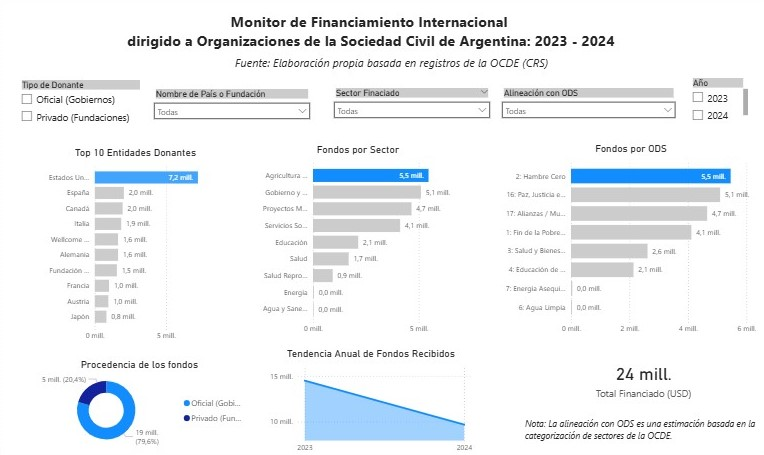

The dashboard page shown, as its layout file describes it:
{"tool":"powerbi","page":{"name":"Página 1","canvas":[1280,763],"ordinal":0},"visuals":[{"type":"barChart","title":"Fondos por ODS","fields":{"Y":["Maestro_Fondos_ODS_Final.monto_usd"],"Category":["Maestro_Fondos_ODS_Final.ods_estimado (grupos)"]},"box":[829.7,235.9,450,329.7],"z":0},{"type":"barChart","title":"Fondos por Sector","fields":{"Category":["Maestro_Fondos_ODS_Final.nombre_sector"],"Y":["Maestro_Fondos_ODS_Final.monto_usd"]},"box":[425,237.5,350,328.1],"z":1000},{"type":"slicer","fields":{"Values":["Maestro_Fondos_ODS_Final.nombre_donante"]},"box":[250,142.9,280,101.4],"z":2000},{"type":"slicer","fields":{"Values":["Maestro_Fondos_ODS_Final.nombre_sector"]},"box":[550,142.2,279.7,75],"z":3000},{"type":"barChart","title":"Top 10 Entidades Donantes","fields":{"Category":["Maestro_Fondos_ODS_Final.nombre_donante"],"Y":["Maestro_Fondos_ODS_Final.monto_usd"]},"box":[68.8,243.8,321.9,334.4],"z":4000},{"type":"slicer","fields":{"Values":["Maestro_Fondos_ODS_Final.ods_estimado"]},"box":[829.7,142.2,309.4,70.3],"z":5000},{"type":"slicer","fields":{"Values":["Maestro_Fondos_ODS_Final.origen_fondos"]},"box":[26.6,128.1,223.4,101.6],"z":6000},{"type":"card","fields":{"Values":["Maestro_Fondos_ODS_Final.monto_usd"]},"box":[981.7,591.7,188.3,80],"z":7000},{"type":"textbox","box":[28.3,13.3,1186.7,91.7],"z":9000},{"type":"textbox","box":[390,86.7,601.7,41.7],"z":10000},{"type":"slicer","fields":{"Values":["Maestro_Fondos_ODS_Final.time_period"]},"box":[1145.7,124.3,110,84.3],"z":11000},{"type":"textbox","box":[873.3,690,406.7,73.3],"z":12000},{"type":"donutChart","title":"Procedencia de los fondos","fields":{"Category":["Maestro_Fondos_ODS_Final.origen_fondos"],"Y":["Maestro_Fondos_ODS_Final.monto_usd"]},"box":[46.7,596.7,378.3,155],"z":13000},{"type":"areaChart","title":"Tendencia Anual de Fondos Recibidos","fields":{"Category":["Maestro_Fondos_ODS_Final.time_period"],"Y":["Maestro_Fondos_ODS_Final.monto_usd"]},"box":[448.3,578.3,346.7,185],"z":13001}]}

Visuals, with their boxes in screenshot pixels (x1, y1, x2, y2), scaled from the page's 1280x763 canvas onto the 764x455 screenshot:
"Fondos por ODS" barChart: [495, 141, 763, 337]
"Fondos por Sector" barChart: [254, 142, 463, 337]
slicer - Maestro_Fondos_ODS_Final.nombre_donante: [149, 85, 316, 146]
slicer - Maestro_Fondos_ODS_Final.nombre_sector: [328, 85, 495, 130]
"Top 10 Entidades Donantes" barChart: [41, 145, 233, 345]
slicer - Maestro_Fondos_ODS_Final.ods_estimado: [495, 85, 680, 127]
slicer - Maestro_Fondos_ODS_Final.origen_fondos: [16, 76, 149, 137]
card - Maestro_Fondos_ODS_Final.monto_usd: [586, 353, 698, 401]
textbox: [17, 8, 725, 63]
textbox: [233, 52, 592, 77]
slicer - Maestro_Fondos_ODS_Final.time_period: [684, 74, 749, 124]
textbox: [521, 411, 763, 454]
"Procedencia de los fondos" donutChart: [28, 356, 254, 448]
"Tendencia Anual de Fondos Recibidos" areaChart: [268, 345, 475, 454]
